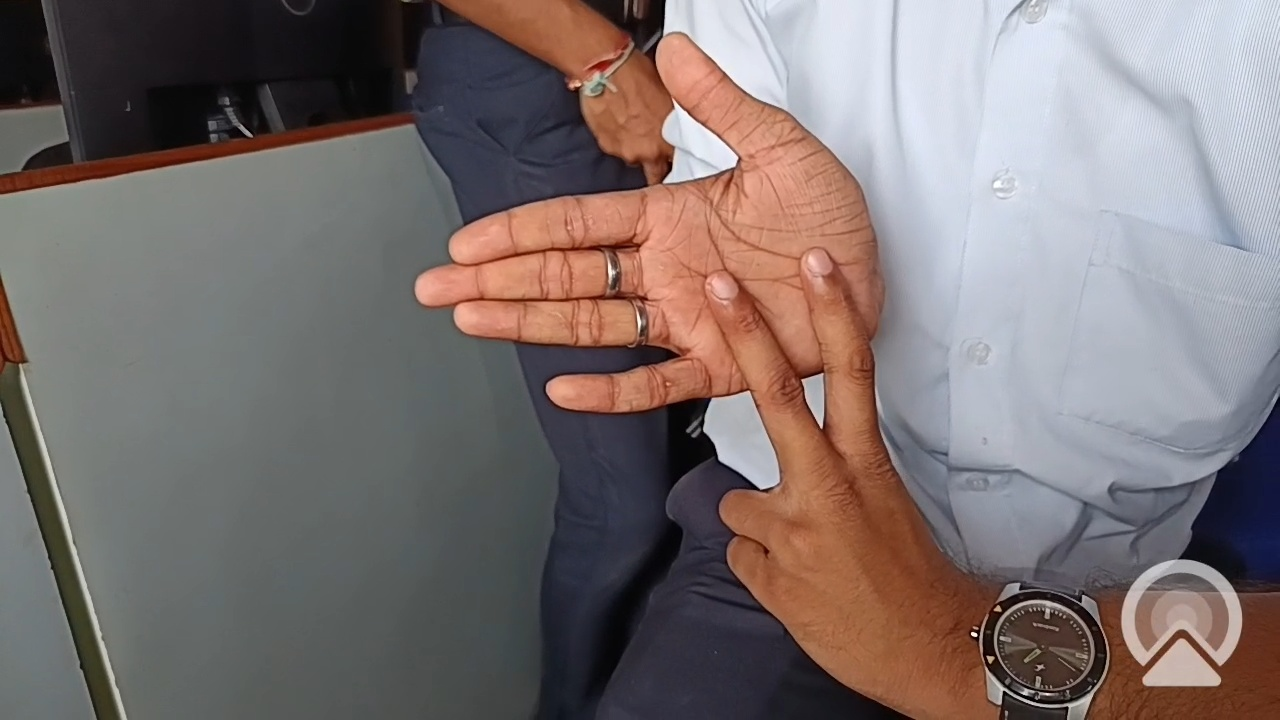N: (406, 28, 987, 719)
